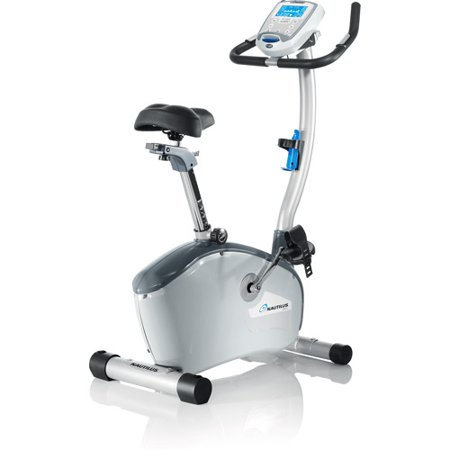gym_bike: (80, 4, 369, 390)
